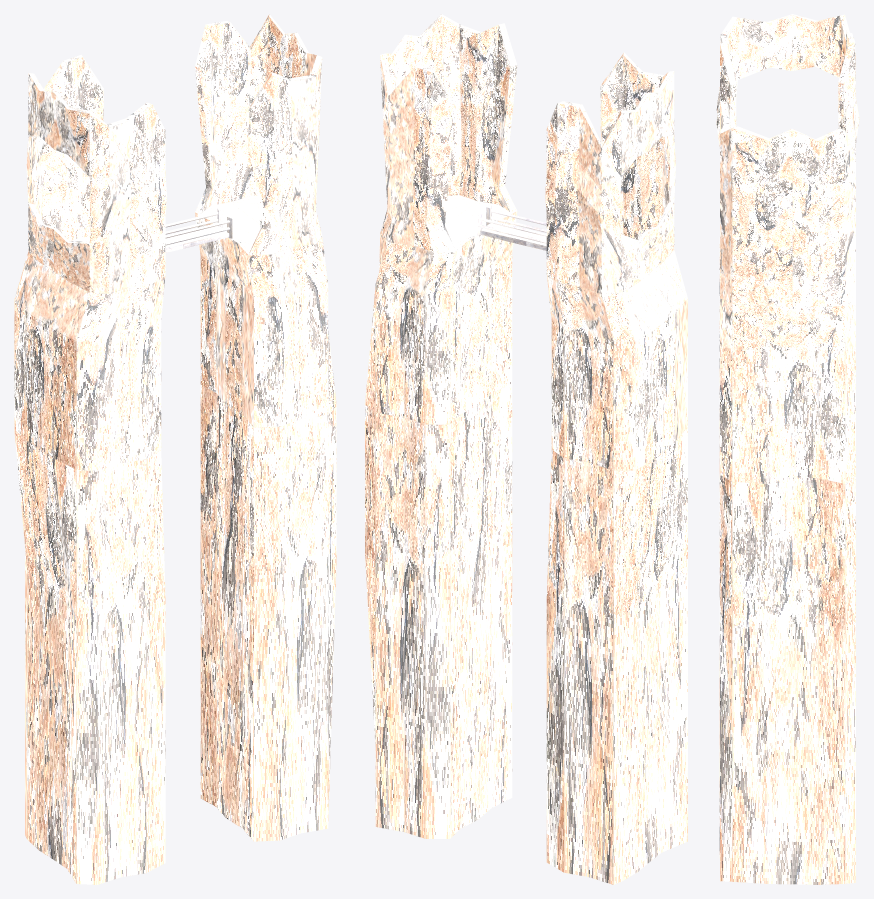
The model's file is chasm.glb.
The picture shows the model from 3 angles, left to right: view 1: azimuth 30°, elevation 25°; view 2: azimuth 150°, elevation 25°; view 3: azimuth 270°, elevation 25°; orthographic projection.
Parts seen in each view (by area): view 1: chasm, bridge; view 2: chasm, bridge; view 3: chasm.
Boxes of the visible parts, x1=… form: chasm: x1=14, y1=14, x2=336, y2=884; bridge: x1=165, y1=208, x2=232, y2=252; chasm: x1=365, y1=14, x2=687, y2=884; bridge: x1=477, y1=205, x2=546, y2=250; chasm: x1=716, y1=14, x2=859, y2=884.
Bounding box in the file's own units: 40.8 × 110 × 18.93.
